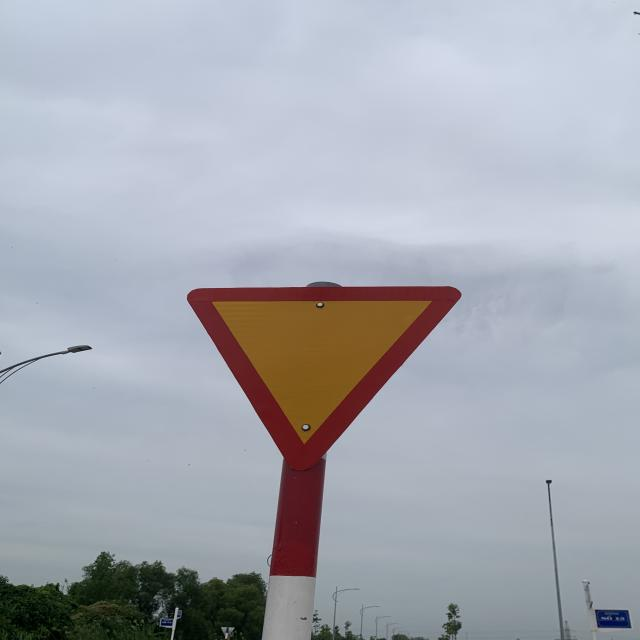Gioi_Han_Toc_Do_25: (186, 287, 464, 466)
